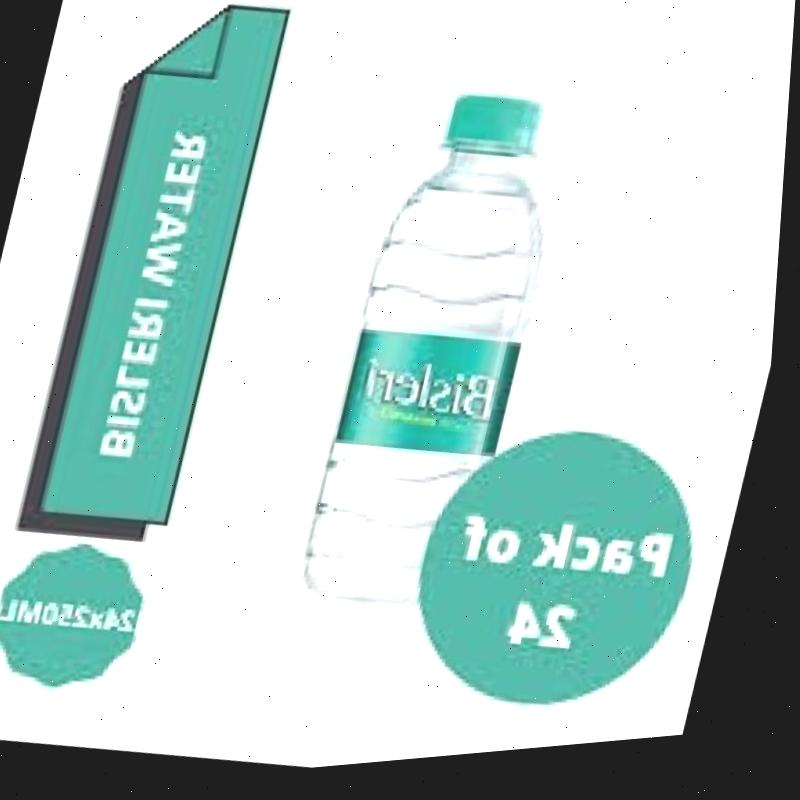botella: (301, 84, 588, 631)
